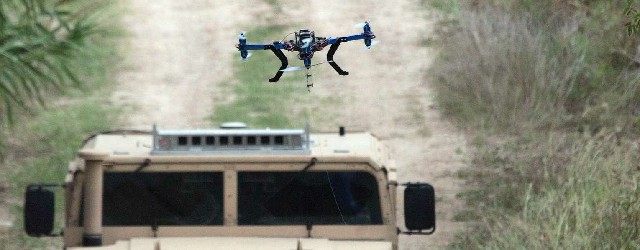maybay_khongnguoilai: (225, 14, 379, 83)
